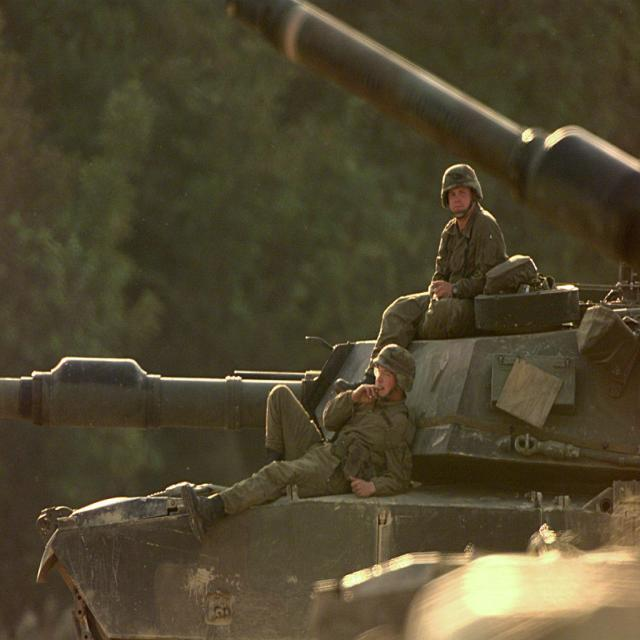tank: (226, 0, 640, 638), (0, 253, 639, 639)
